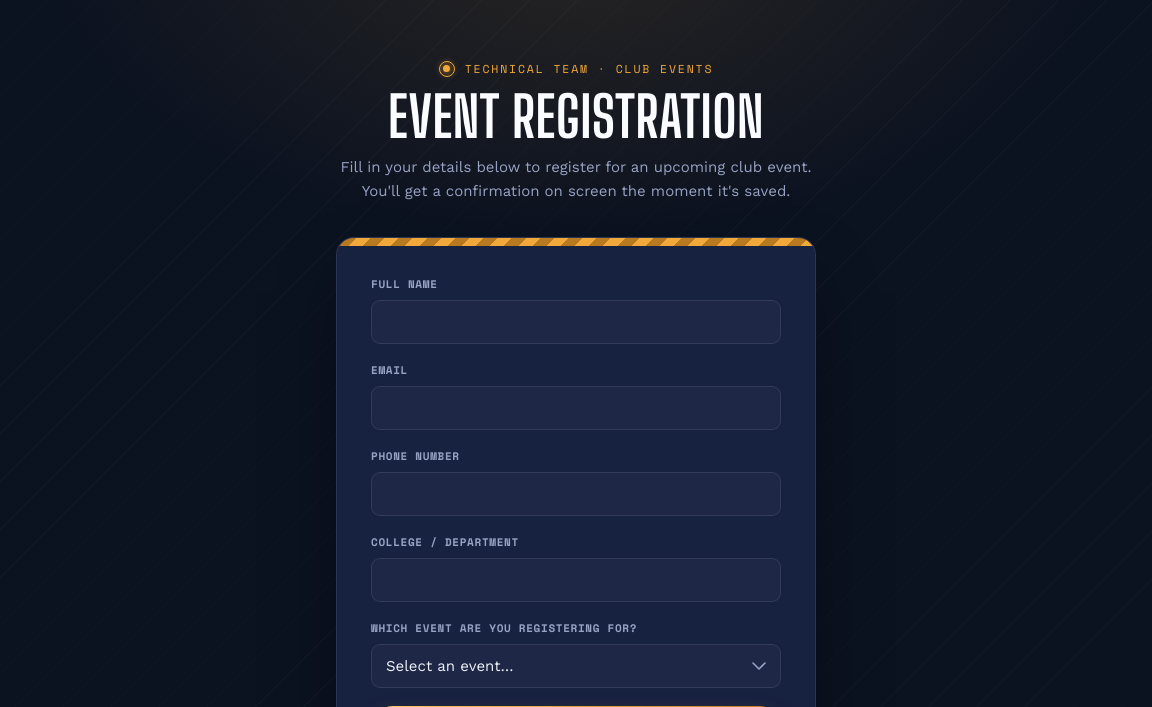
Test case: RegistrationForm › surfaces a server error (e.g. duplicate registration) without crashing
This screenshot has width=1152, height=707.
Step 1. Type "Ada Lovelace" into the field labelled "Full Name" → (576, 322), box [371, 300, 781, 344]
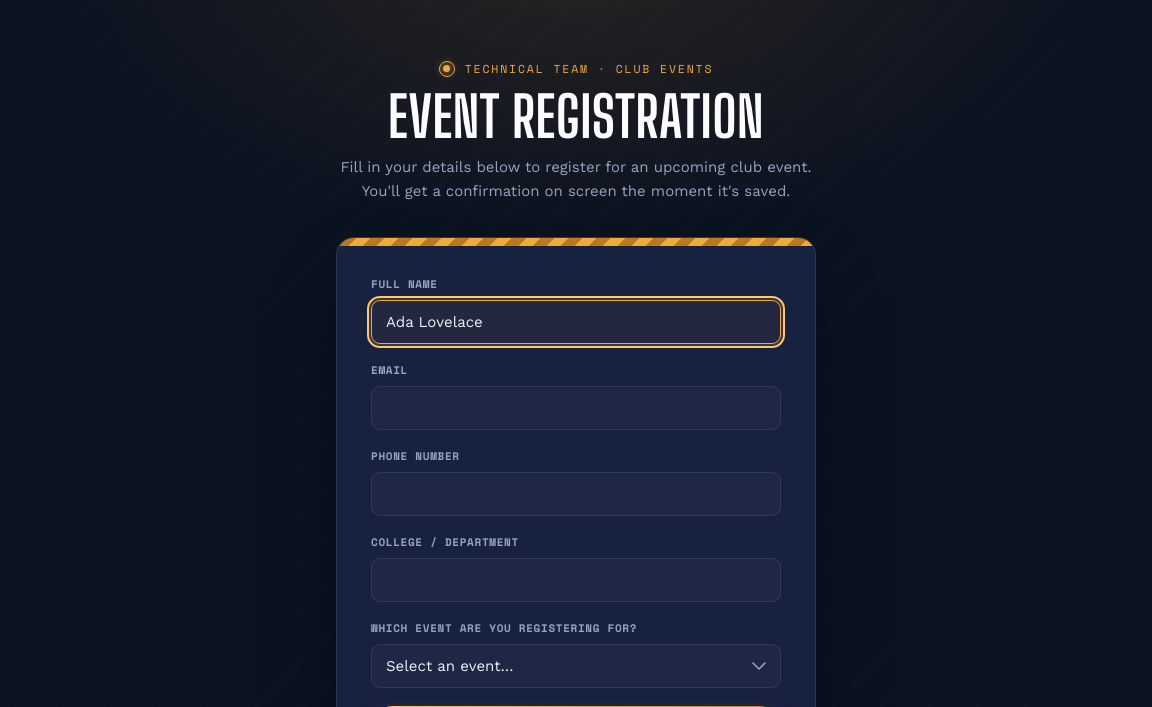
Step 2. Type "ada@example.com" into the field labelled "Email" → (576, 408), box [371, 386, 781, 430]
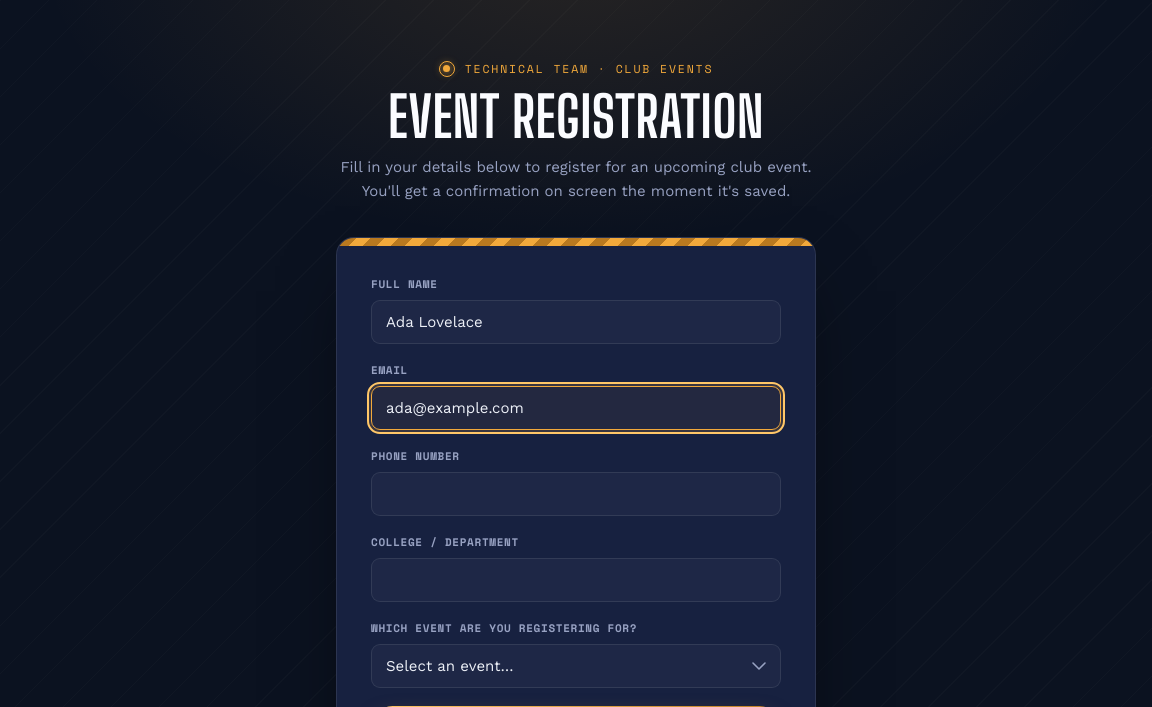
Step 3. Type "+1 555 123 4567" into the field labelled "Phone Number" → (576, 494), box [371, 472, 781, 516]
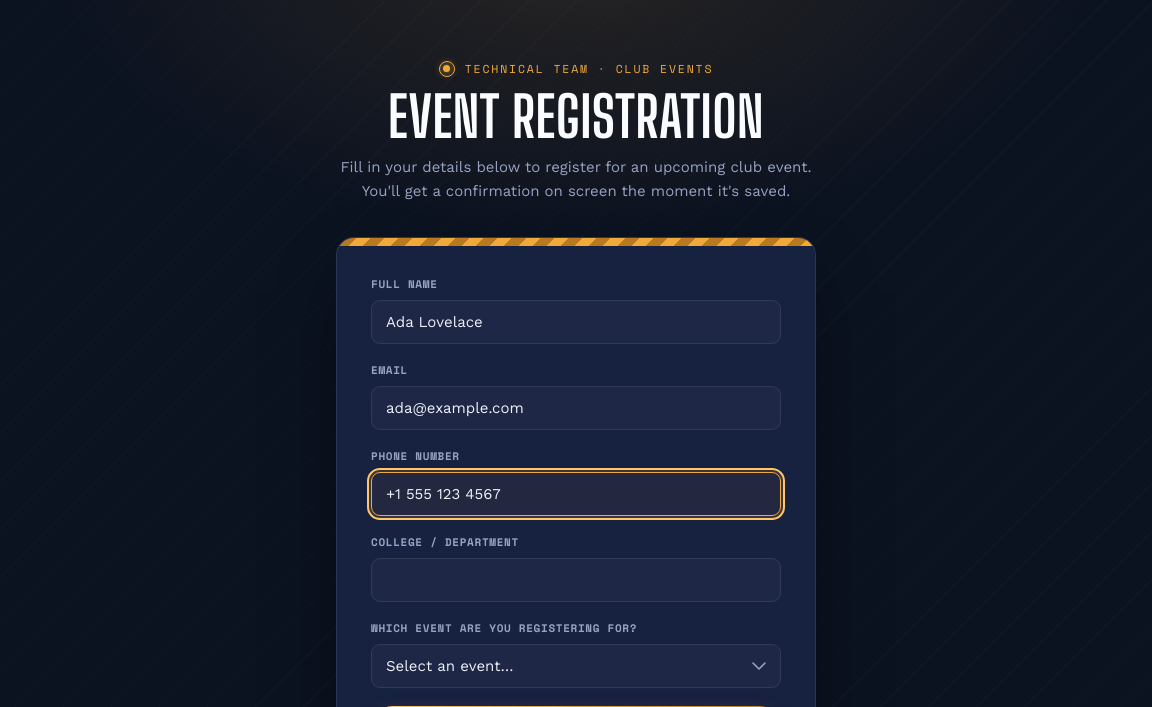
Step 4. Type "Computer Science" into the field labelled "College / Department" → (576, 580), box [371, 558, 781, 602]
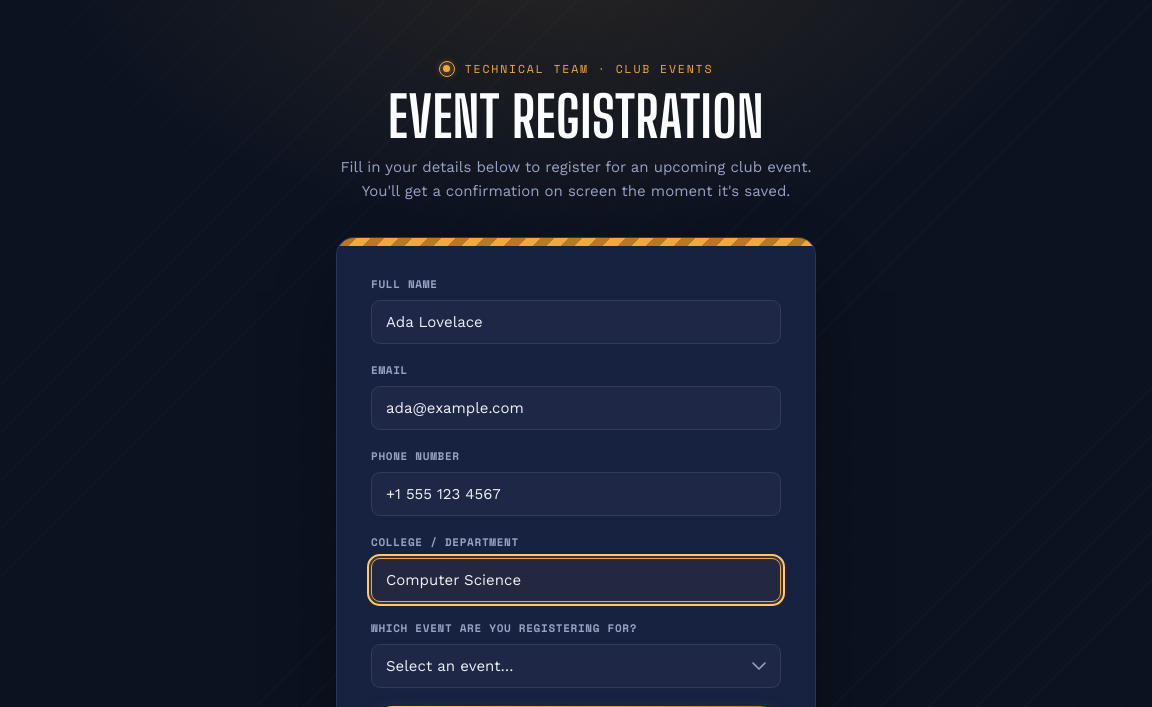
Step 5. Select "Hackathon 2026" in the dropdown labelled "Which event are you registering for?" → (576, 666), box [371, 644, 781, 688]
(page scrolled)
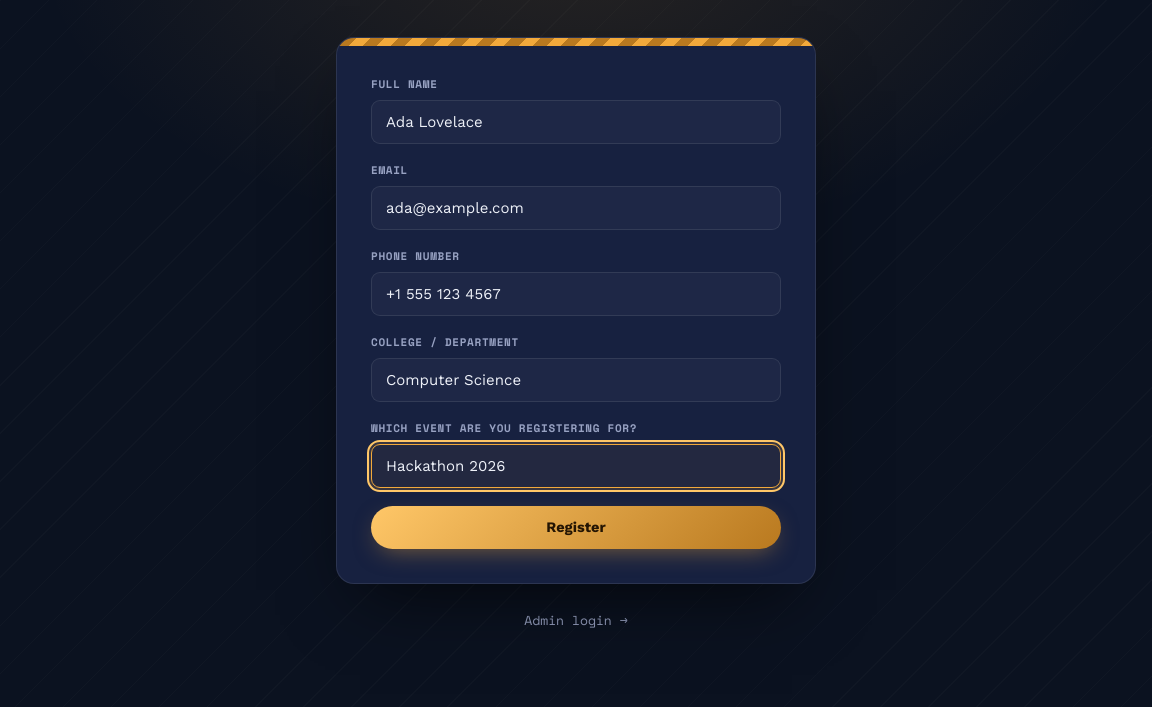
Step 6. Click the button "Register" → (576, 528), box [371, 506, 781, 549]
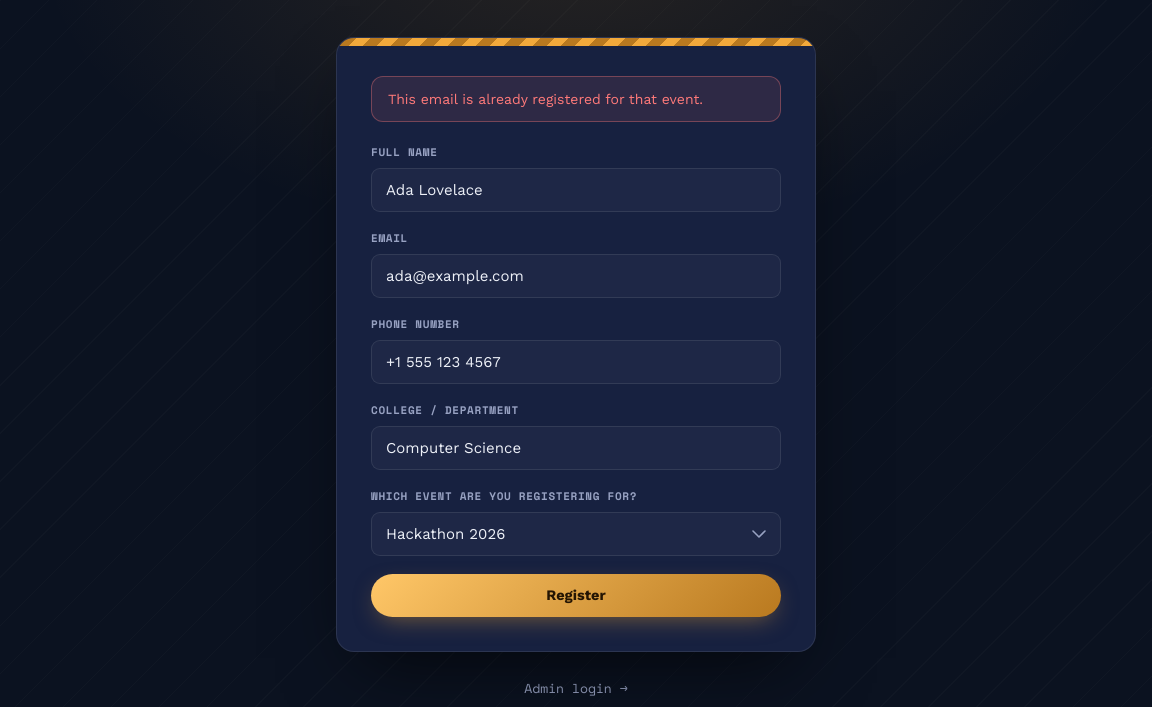
Expected: the message shows "already registered", [388, 91, 703, 107]
